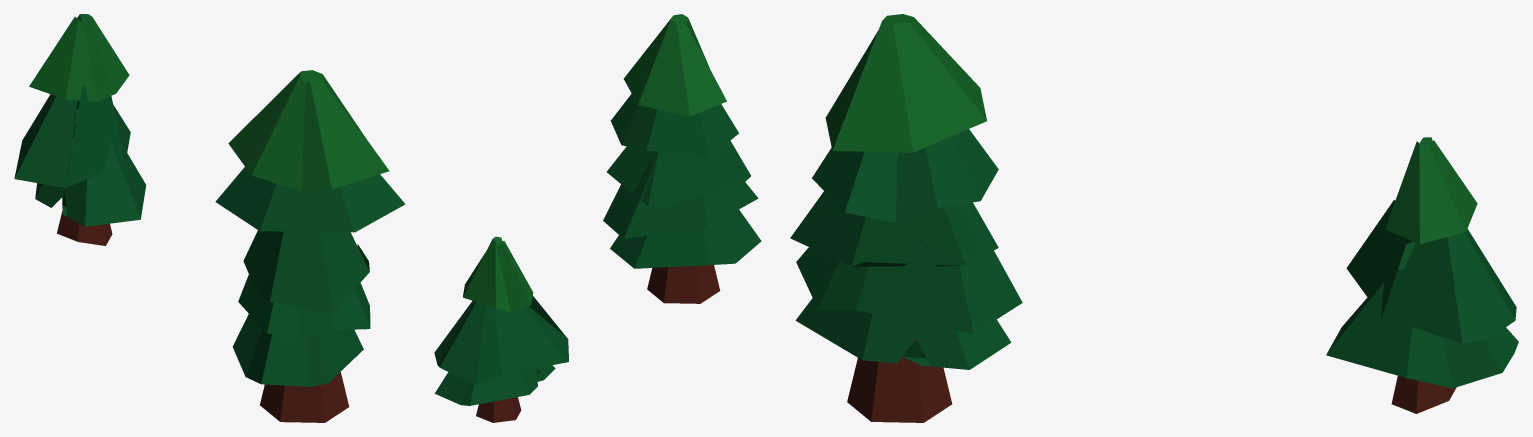
The model's file is evergreen.fbx.
The picture shows the model from 3 angles, left to right: view 1: azimuth 30°, elevation 25°; view 2: azimuth 150°, elevation 25°; view 3: azimuth 270°, elevation 25°; orthographic projection. The views are drawn at different scales.
Parts seen in each view (by area): view 1: Cylinder.005, Cylinder.003, Cylinder.004, Cylinder.007, Cylinder.001, Cylinder.010, Cylinder.006, Cylinder.002, Trunk, Trunk.001; view 2: Cylinder.007, Cylinder.005, Cylinder.003, Cylinder.001, Cylinder.004, Cylinder.002, Cylinder.010, Cylinder.006, Trunk, Trunk.001; view 3: Cylinder.005, Cylinder.007, Cylinder.002, Cylinder.004, Cylinder.006, Cylinder.003, Cylinder.001, Cylinder.010, Trunk, Trunk.001.
Part boxes in pixels (x1,y1,x2,y2): Cylinder.005: [228, 70, 389, 191]; Cylinder.003: [243, 230, 369, 312]; Cylinder.004: [215, 167, 405, 232]; Cylinder.007: [14, 86, 130, 187]; Cylinder.001: [232, 314, 363, 386]; Cylinder.010: [29, 14, 129, 101]; Cylinder.006: [35, 112, 146, 226]; Cylinder.002: [238, 274, 370, 338]; Trunk: [260, 372, 349, 422]; Trunk.001: [57, 210, 112, 245]; Cylinder.007: [434, 296, 568, 385]; Cylinder.005: [623, 14, 726, 116]; Cylinder.003: [607, 140, 750, 206]; Cylinder.001: [610, 209, 761, 268]; Cylinder.004: [611, 94, 738, 156]; Cylinder.002: [603, 156, 758, 238]; Cylinder.010: [463, 236, 533, 311]; Cylinder.006: [435, 365, 555, 405]; Trunk: [647, 265, 720, 303]; Trunk.001: [476, 397, 521, 422]; Cylinder.005: [825, 14, 986, 152]; Cylinder.007: [1346, 200, 1516, 343]; Cylinder.002: [796, 204, 1022, 333]; Cylinder.004: [812, 129, 998, 222]; Cylinder.006: [1326, 259, 1518, 388]; Cylinder.003: [790, 191, 998, 266]; Cylinder.001: [795, 298, 1011, 369]; Cylinder.010: [1385, 137, 1477, 244]; Trunk: [847, 339, 952, 422]; Trunk.001: [1391, 376, 1456, 413].
Size of the model in its own units: 393 by 813 by 1383.
